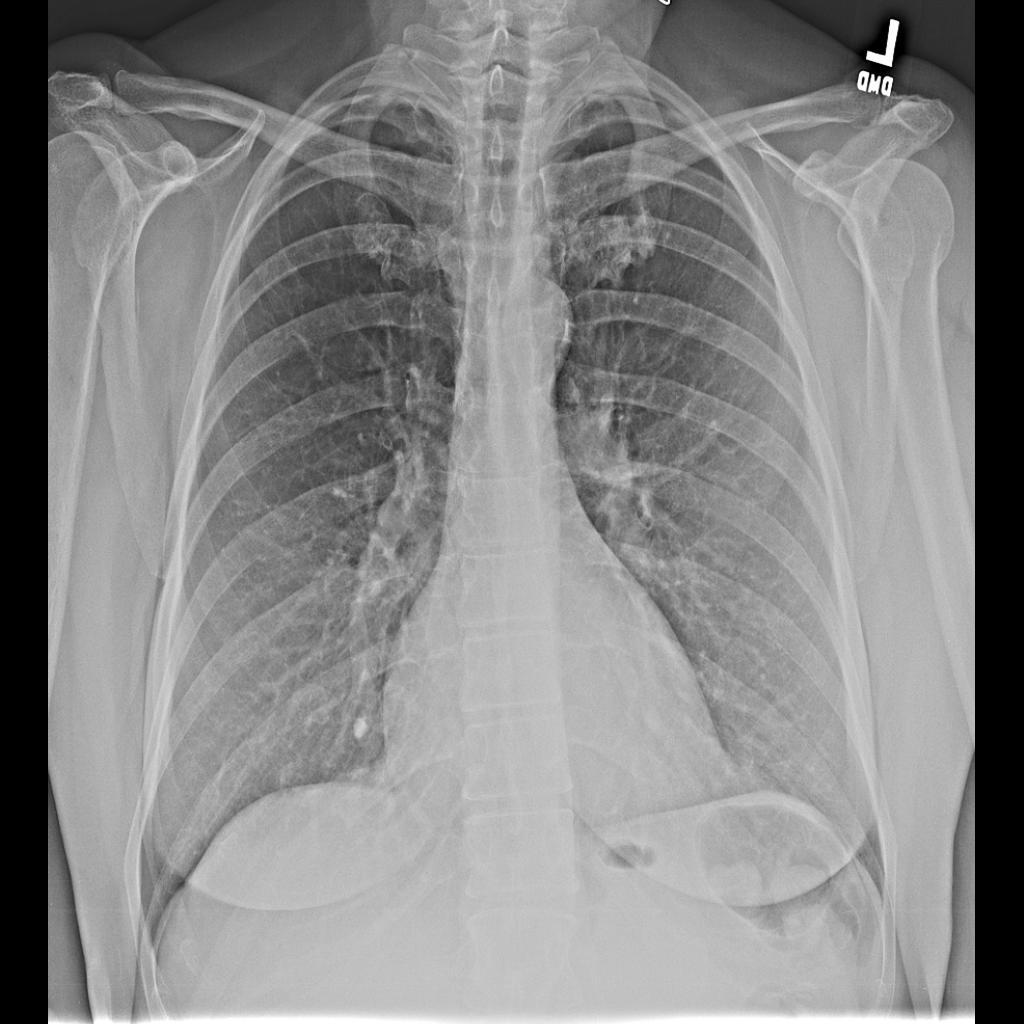Nodule: (282, 677, 332, 745)
